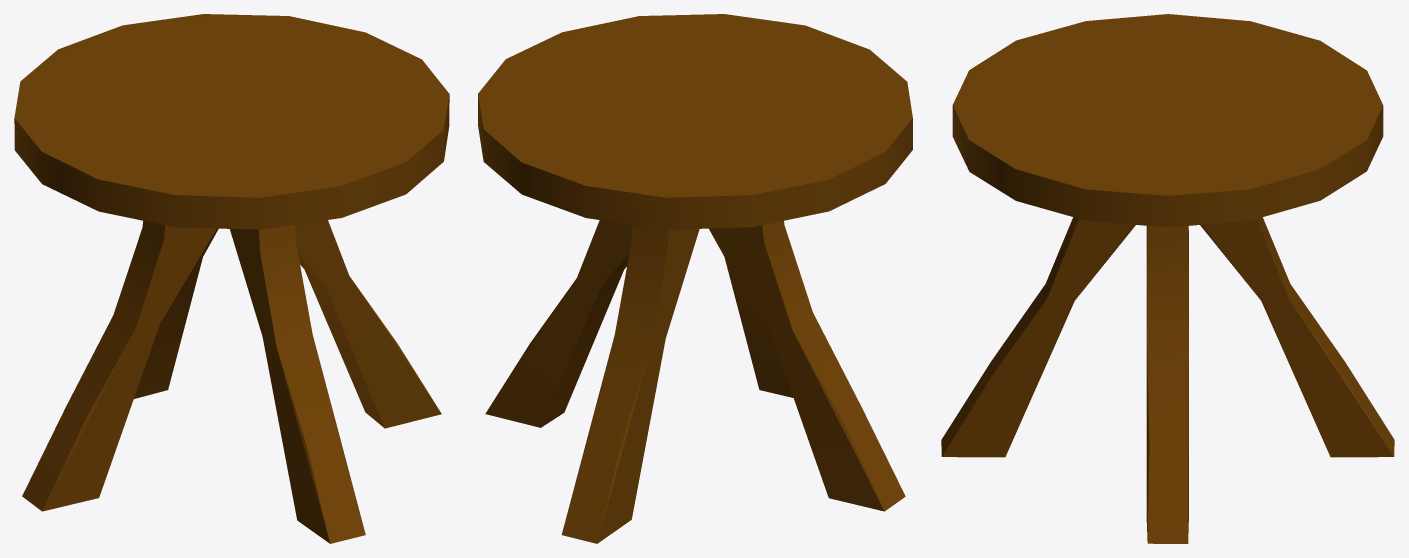
File: RoundTable.fbx
3 renders of one model, left to right at view 1: azimuth 30°, elevation 25°; view 2: azimuth 150°, elevation 25°; view 3: azimuth 270°, elevation 25°, orthographic.
Parts seen in each view (by area): view 1: Table_round_Cylinder.001; view 2: Table_round_Cylinder.001; view 3: Table_round_Cylinder.001.
Part boxes in pixels (bbox=[...]): Table_round_Cylinder.001: bbox=[14, 14, 449, 543]; Table_round_Cylinder.001: bbox=[478, 14, 912, 543]; Table_round_Cylinder.001: bbox=[941, 14, 1394, 543].
Bounding box in the file's own units: 81.05 × 67.74 × 81.05.
